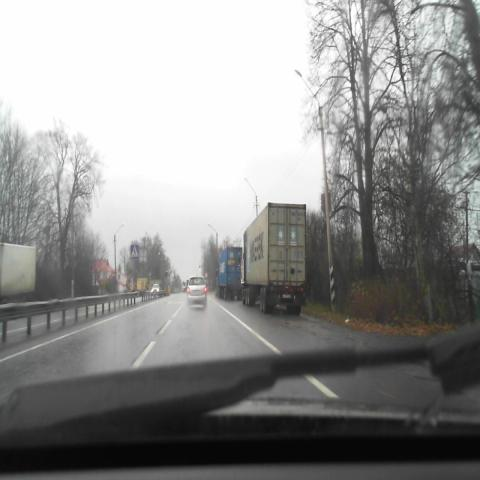5_19_1: (130, 245, 138, 258)
